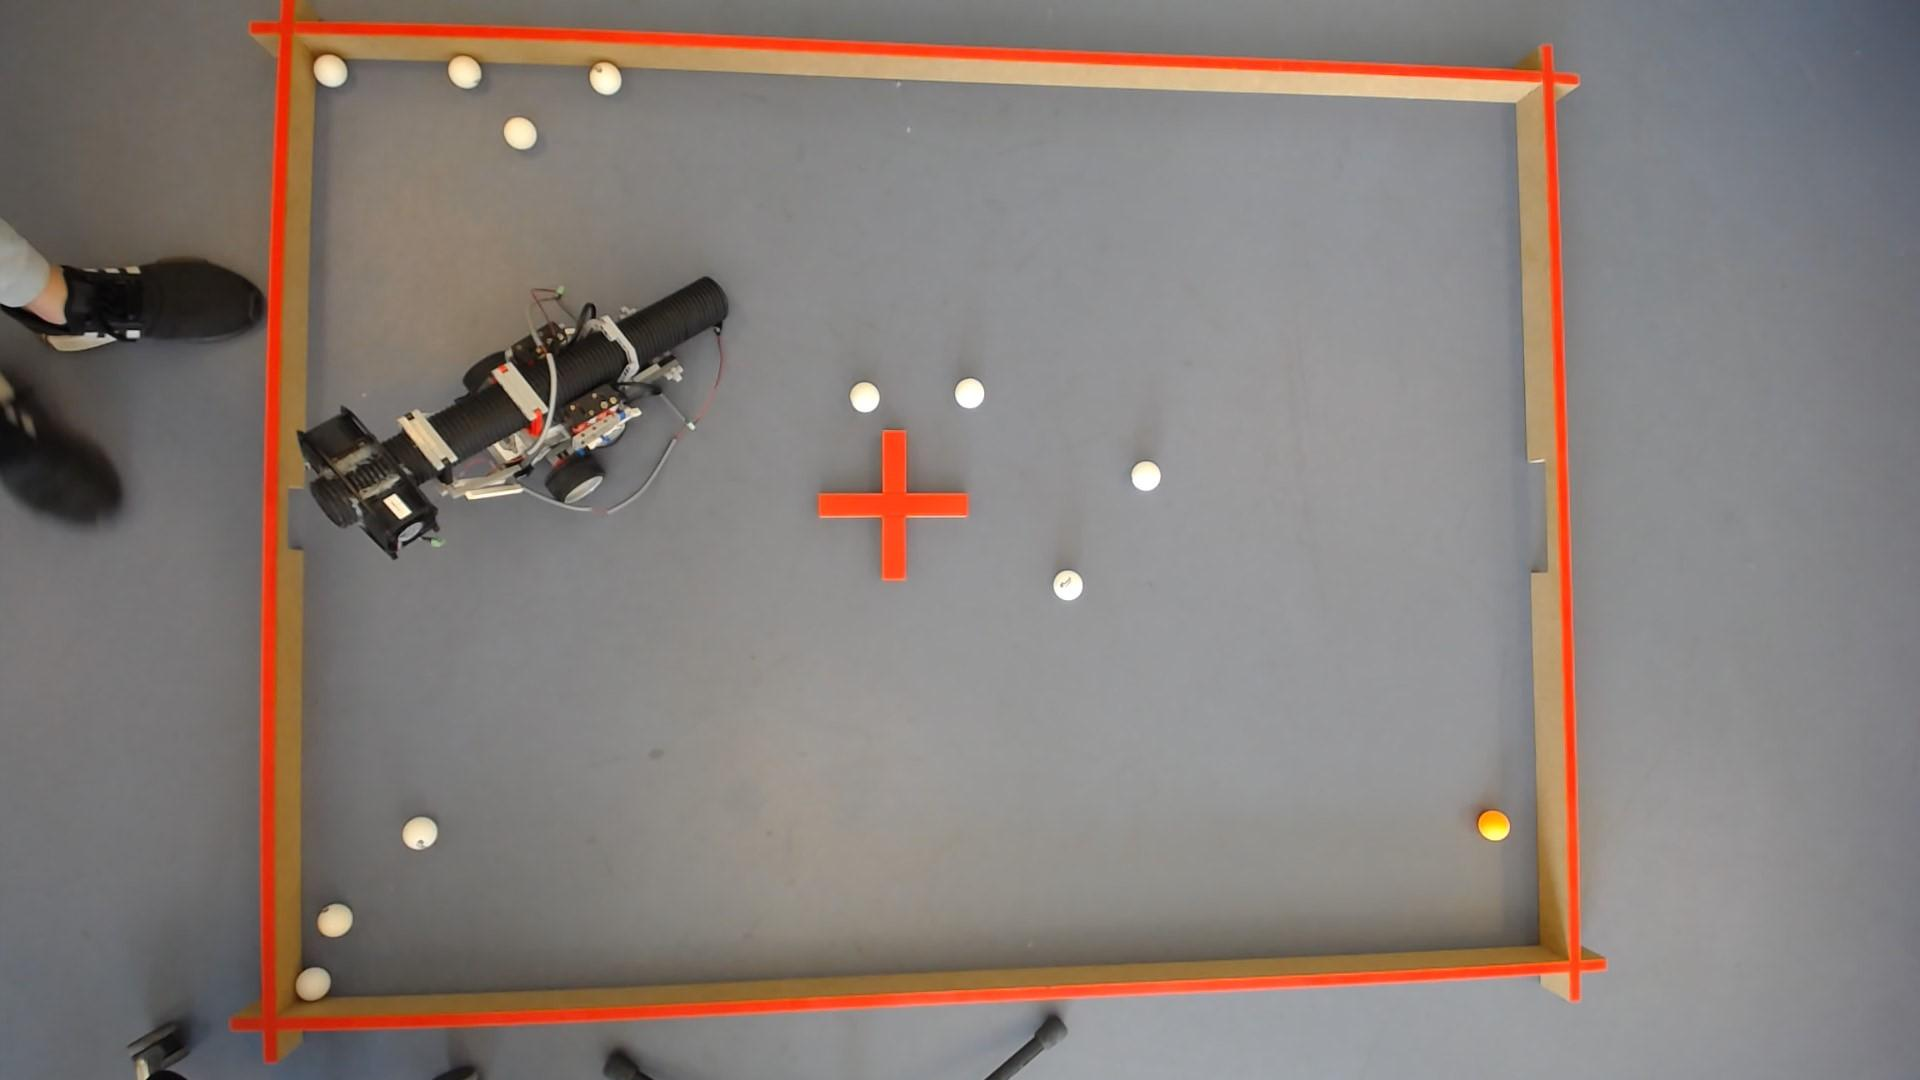orange: (1480, 810, 1513, 841)
robot: (297, 276, 727, 554)
white: (314, 903, 352, 939), (293, 967, 328, 1002), (401, 818, 436, 851), (447, 51, 480, 86), (502, 113, 535, 148), (313, 51, 345, 84), (589, 59, 621, 92), (1054, 568, 1084, 600), (851, 380, 880, 410), (1133, 460, 1162, 489), (956, 377, 984, 406)
